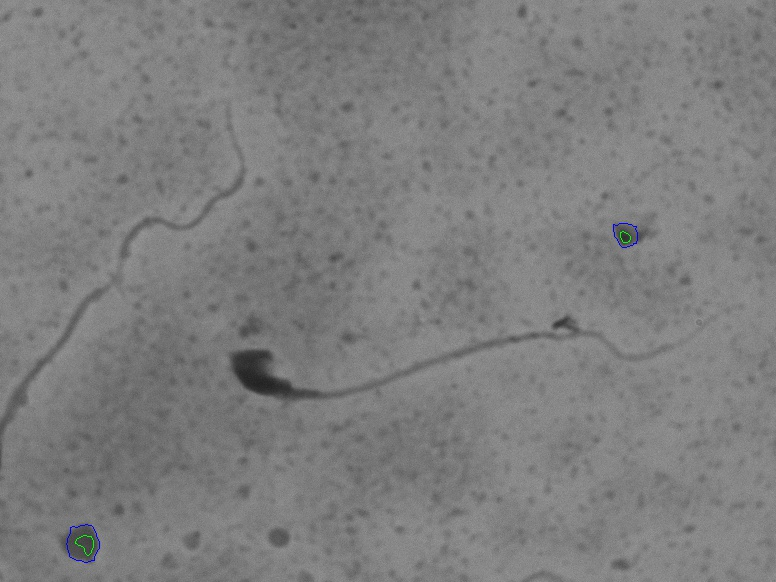Abnormal: (217, 300, 740, 441)
